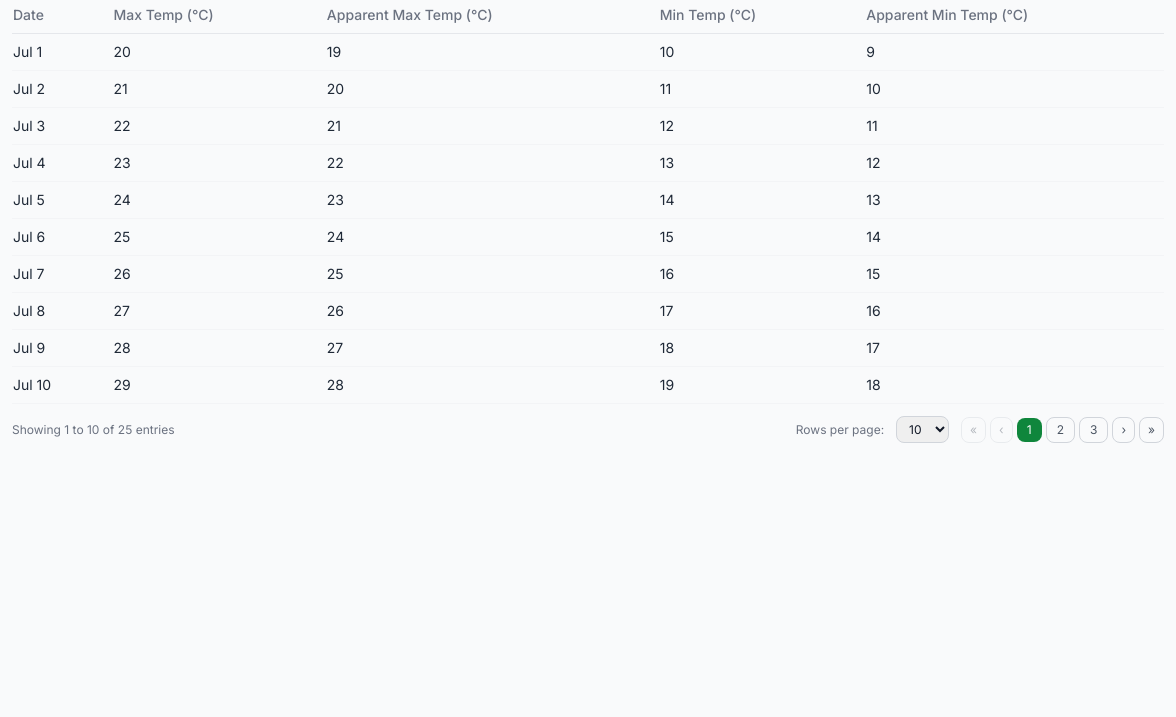
Test: WeatherTable › shows more rows per page when changed to 20
The width and height of the screenshot is (1176, 717).
Step 1. Select "20" in the dropdown labelled "Rows per page:" → (923, 430), box [896, 416, 949, 443]
(page scrolled)
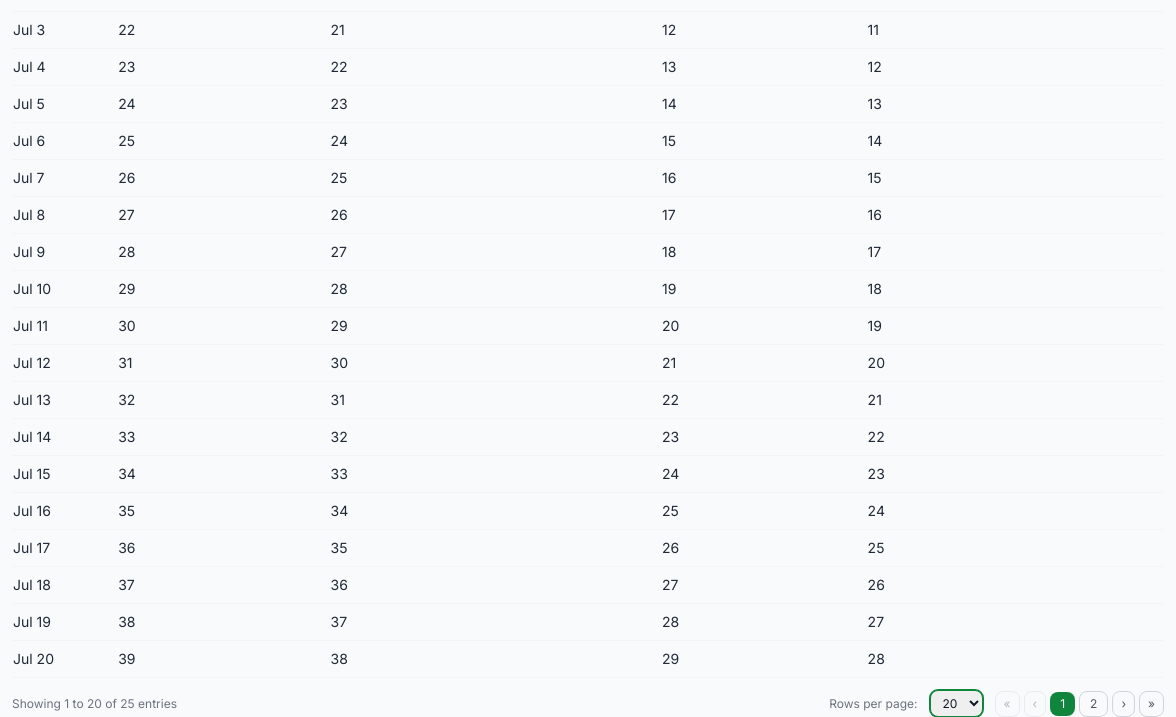
Check: the text "Showing 1 to 20 of 25 entries" is shown, box [12, 696, 177, 712]
